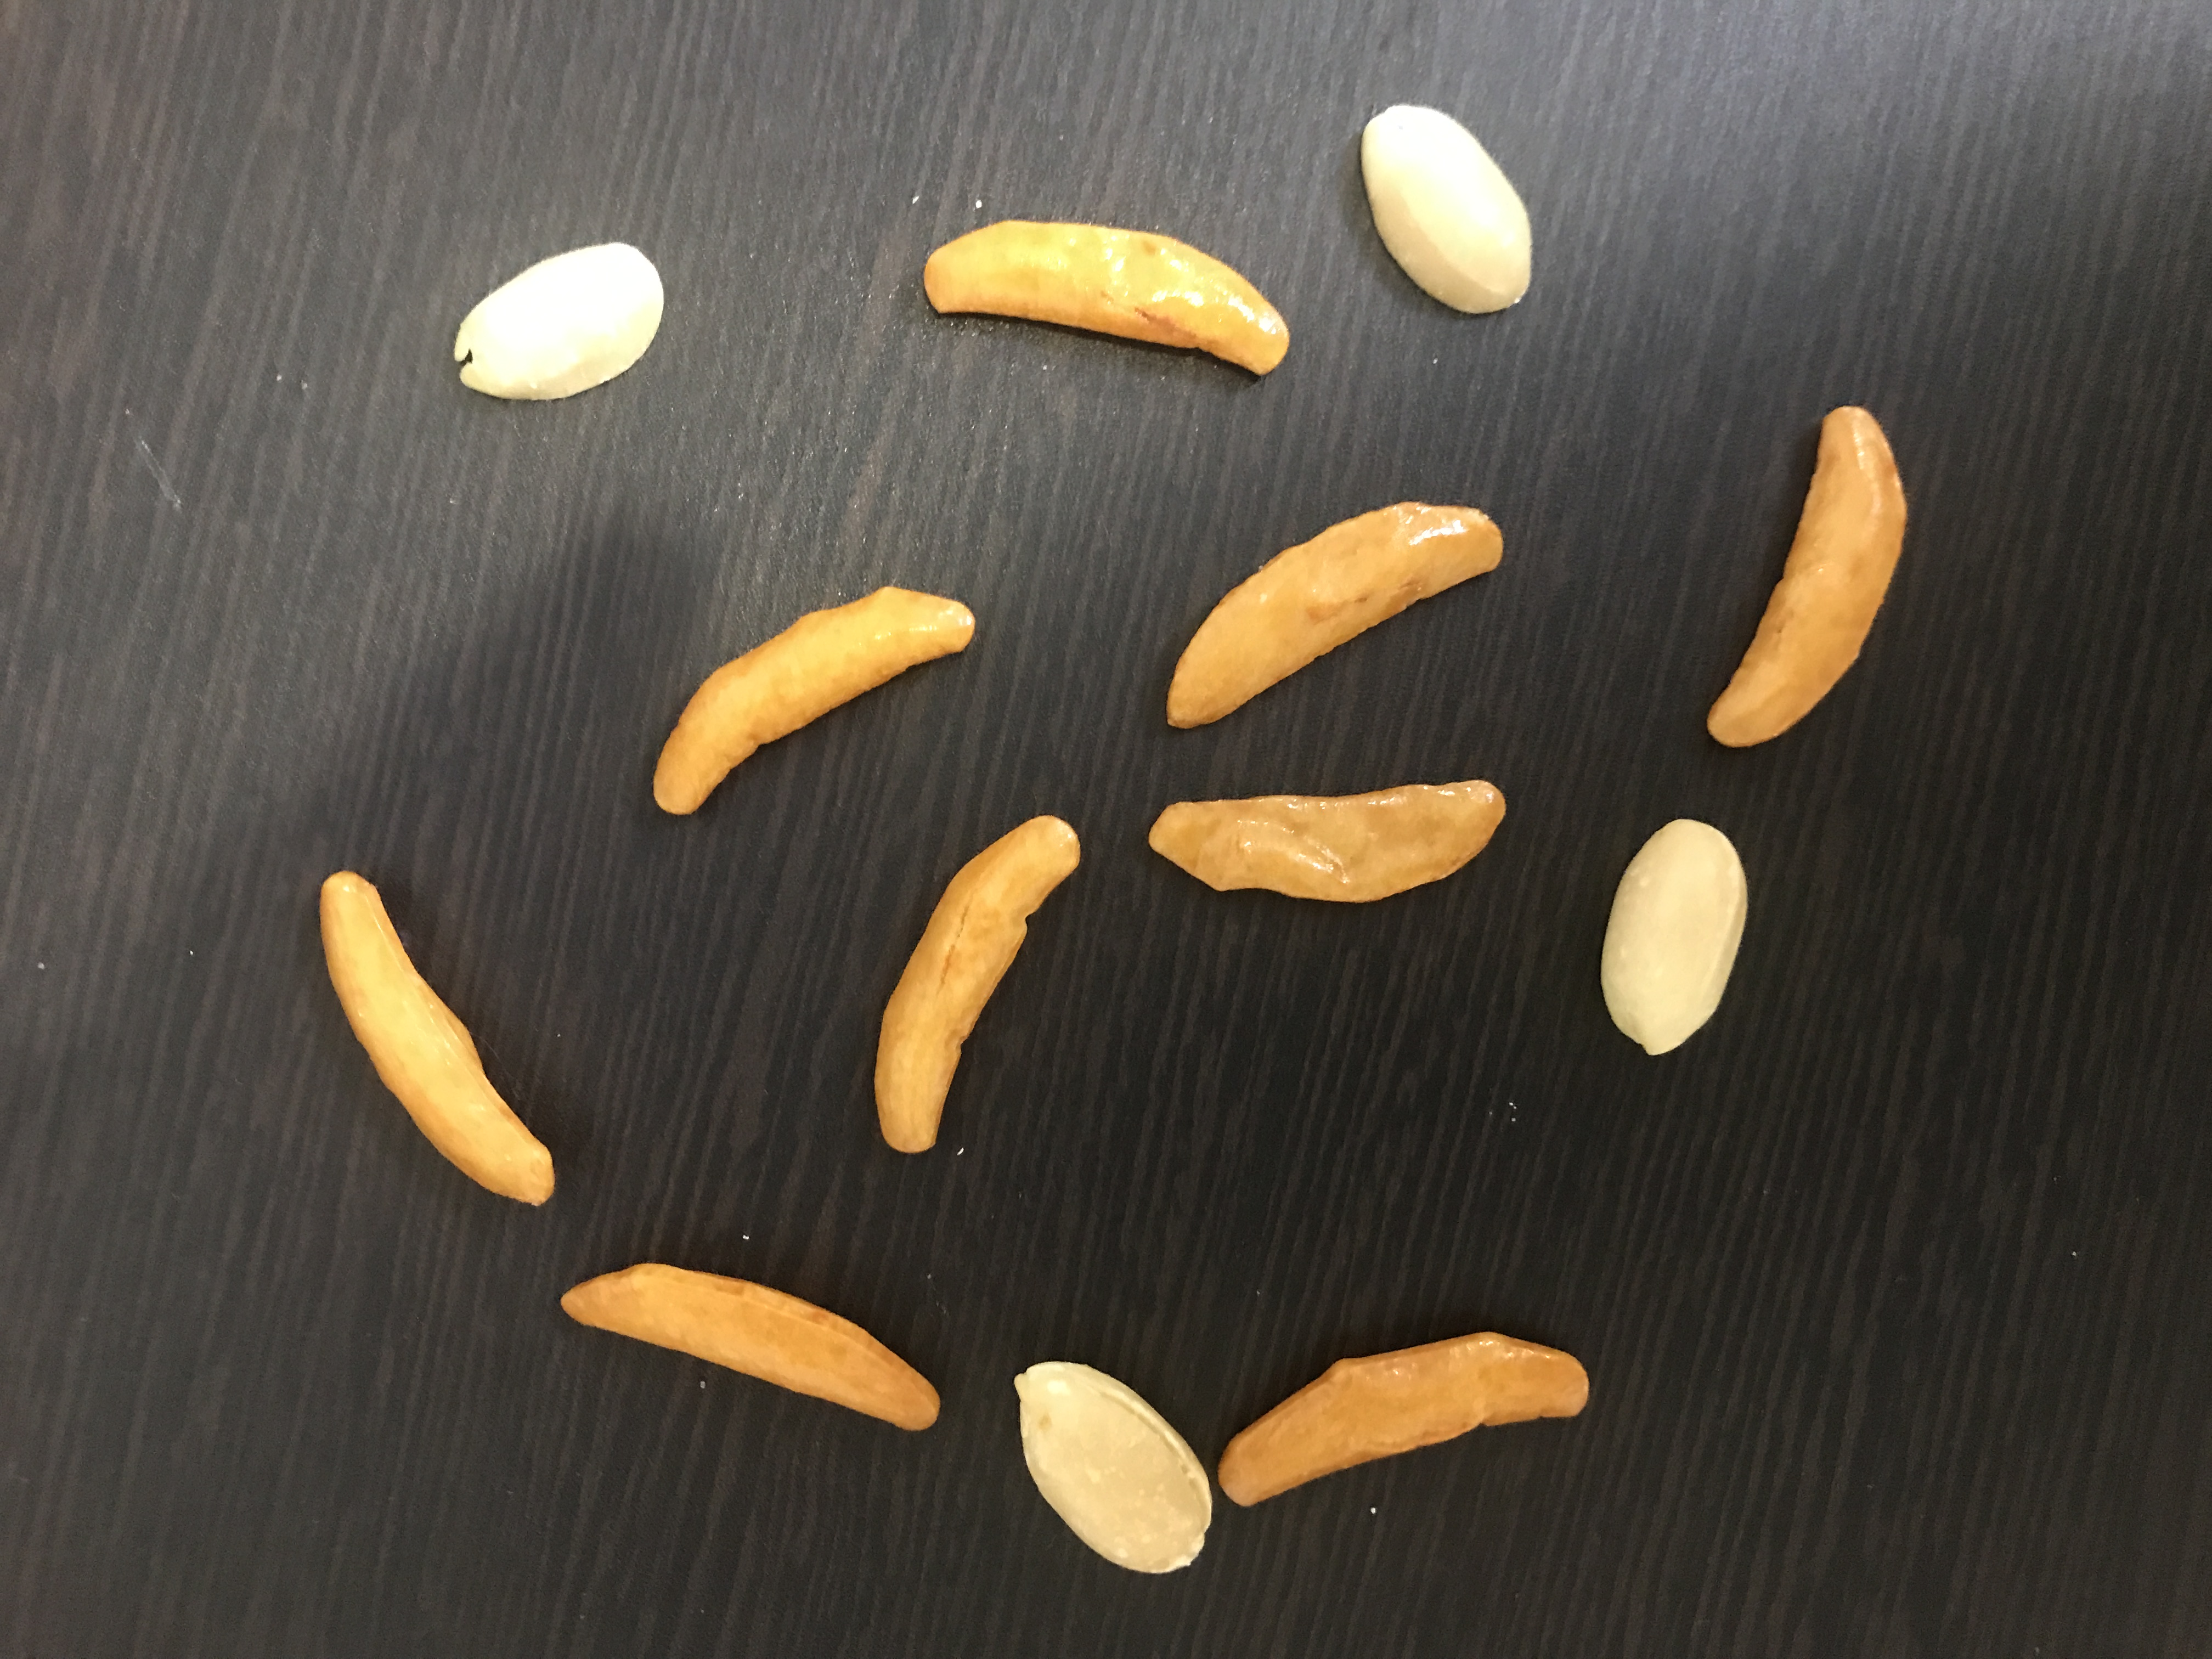peanut: (1008, 1361, 1221, 1582), (1350, 82, 1543, 319), (1590, 810, 1757, 1072), (435, 228, 672, 408)
